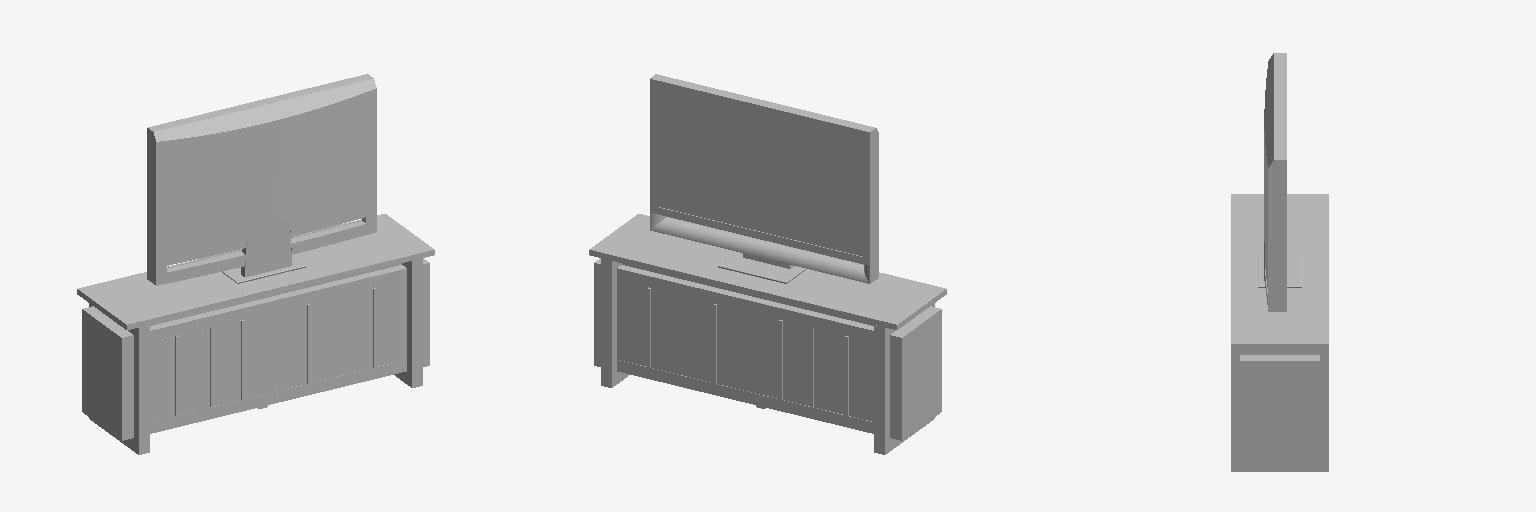
The picture shows the model from 3 angles: view 1: azimuth 30°, elevation 25°; view 2: azimuth 150°, elevation 25°; view 3: azimuth 270°, elevation 25°; orthographic projection.
Parts seen in each view (by area): view 1: HDTV_Entertainment_Center; view 2: HDTV_Entertainment_Center; view 3: HDTV_Entertainment_Center.
Boxes of the visible parts, x1,y1,x2,y2 form: HDTV_Entertainment_Center: [77, 74, 434, 454]; HDTV_Entertainment_Center: [589, 74, 946, 454]; HDTV_Entertainment_Center: [1231, 53, 1328, 471].
Size of the model in its own units: 72 by 67.74 by 20.